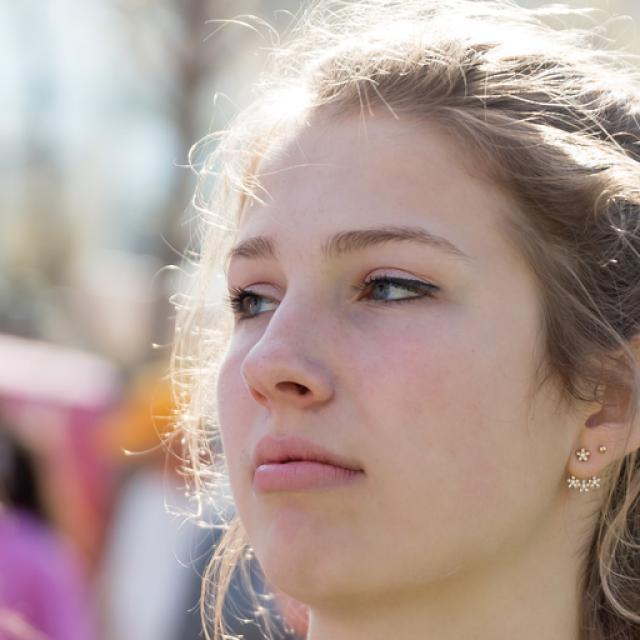sad: (216, 110, 565, 594)
